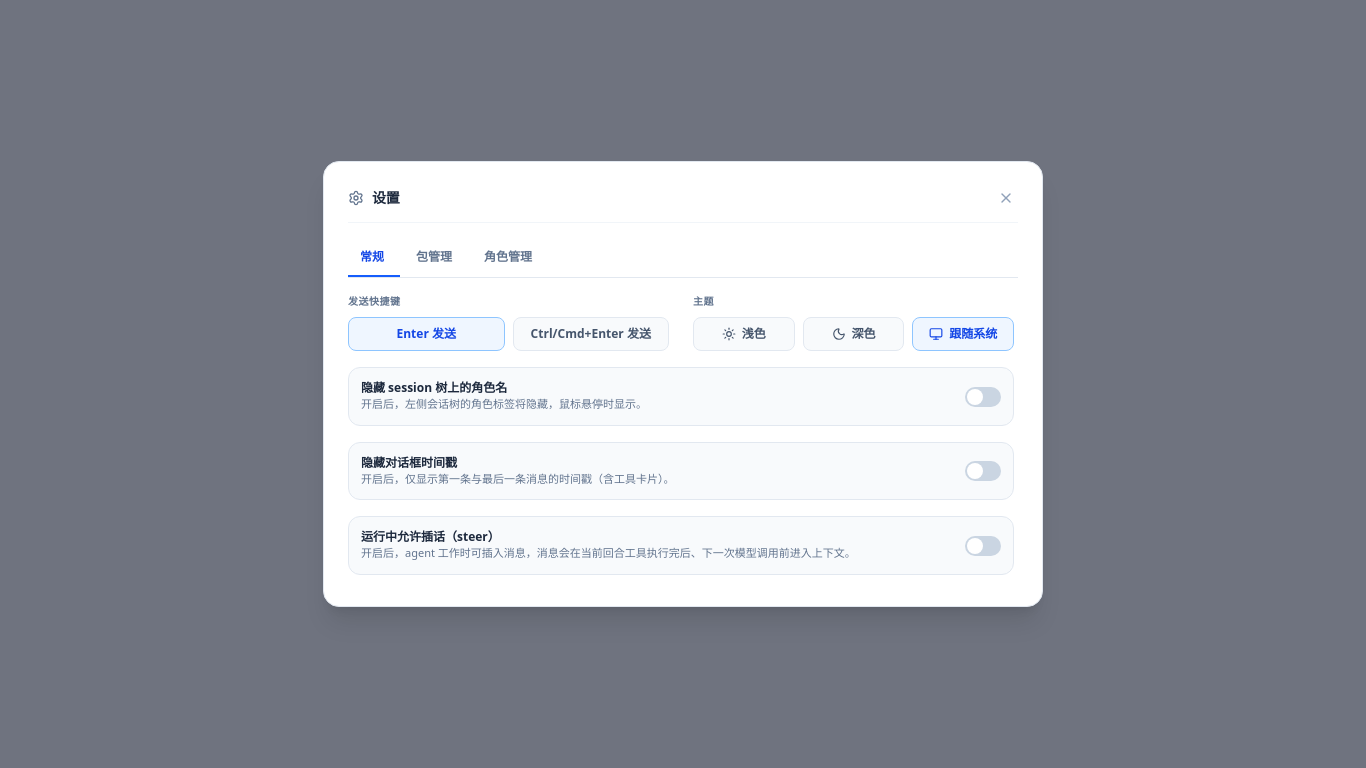
Test: 设置面板：隐藏对话框时间戳 › 保存失败：显示错误提示，且开关回滚到服务端值
The width and height of the screenshot is (1366, 768).
点击瞬间乐观选中
Click the checkbox with test id "hide-chat-timestamps-toggle": point(983, 471) [965,461,1001,481]
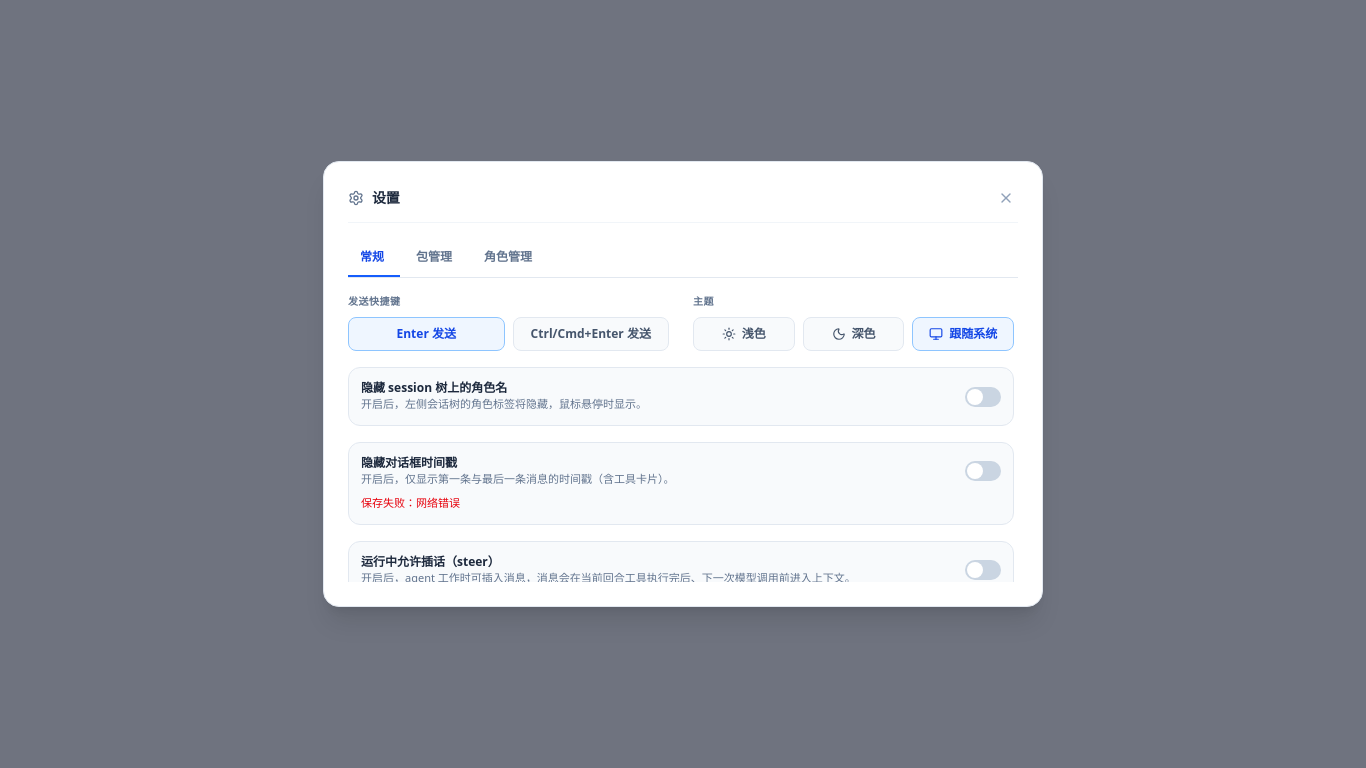
Result: the text "保存失败：网络错误" is shown at [361,495,460,510]
